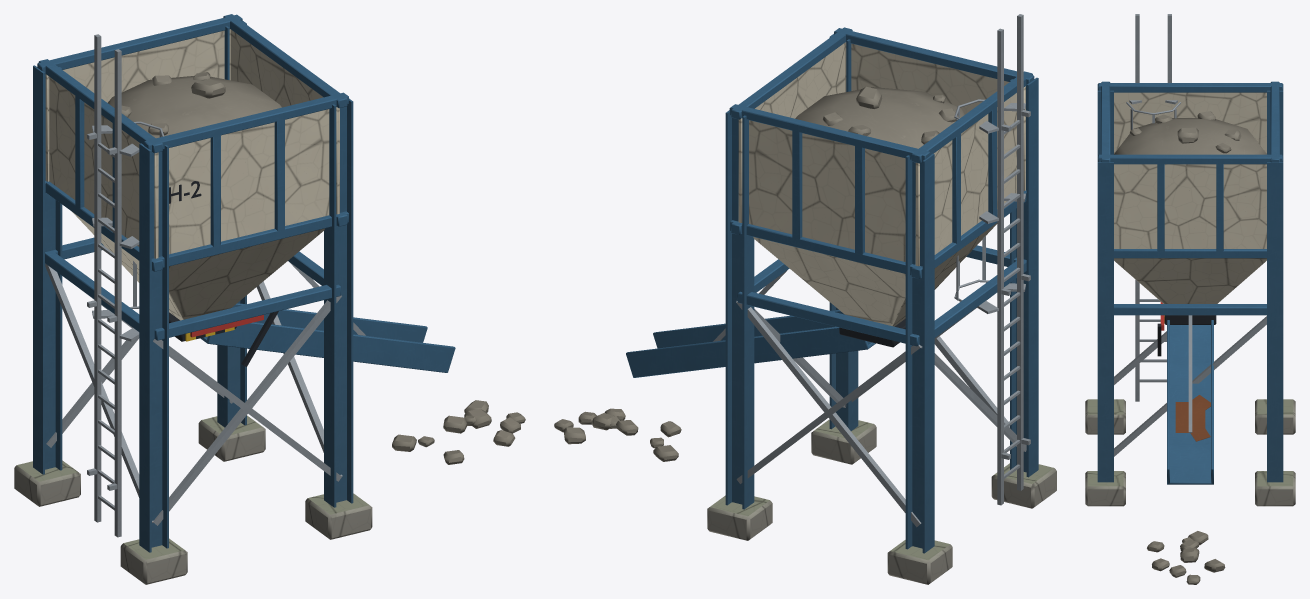
File: hopper.glb
3 views of the same model, side by side, from view 1: azimuth 30°, elevation 25°; view 2: azimuth 150°, elevation 25°; view 3: azimuth 270°, elevation 25° (orthographic). The views are drawn at different scales.
Parts seen in each view (by area): view 1: hopper.001; view 2: hopper.001; view 3: hopper.001.
Boxes of the visible parts, <box> form: hopper.001: <box>14,14,525,584</box>; hopper.001: <box>554,14,1056,584</box>; hopper.001: <box>1085,14,1295,584</box>.
Size of the model in its own units: 5.61 by 6.08 by 2.85.
10 materials, 10 textured.
